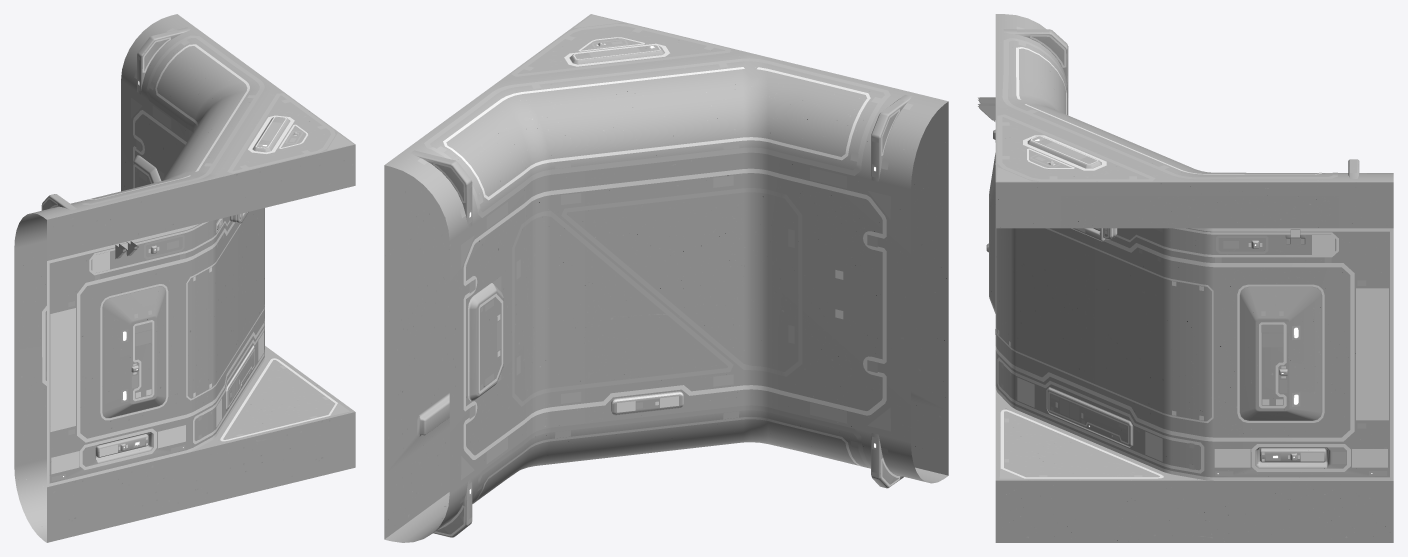
File: SM_Modular_WallCorner_2_Merged.fbx
3 renders of one model, left to right at view 1: azimuth 30°, elevation 25°; view 2: azimuth 150°, elevation 25°; view 3: azimuth 270°, elevation 25°, orthographic. The views are drawn at different scales.
Parts seen in each view (by area): view 1: SM_Modular_WallCorner_2_Merged_LOD0; view 2: SM_Modular_WallCorner_2_Merged_LOD0; view 3: SM_Modular_WallCorner_2_Merged_LOD0.
Part boxes in pixels (x1=…): SM_Modular_WallCorner_2_Merged_LOD0: x1=14, y1=14, x2=355, y2=542; SM_Modular_WallCorner_2_Merged_LOD0: x1=384, y1=14, x2=948, y2=542; SM_Modular_WallCorner_2_Merged_LOD0: x1=978, y1=14, x2=1393, y2=542.
Bounding box in the file's own units: 523 × 523 × 508.
